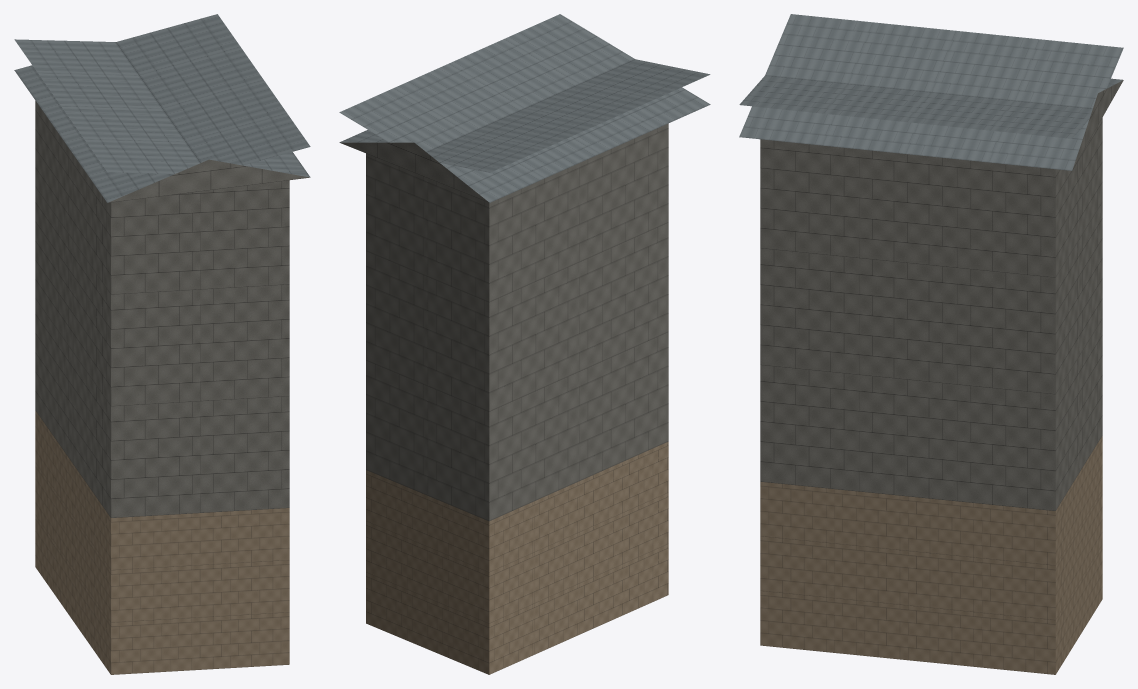
The model's file is bld_c-8_36_393.gltf.
The picture shows the model from 3 angles, left to right: view 1: azimuth 30°, elevation 25°; view 2: azimuth 150°, elevation 25°; view 3: azimuth 270°, elevation 25°; orthographic projection. The views are drawn at different scales.
Visible parts, largest first — view 1: bld_c-8_36_393; view 2: bld_c-8_36_393; view 3: bld_c-8_36_393.
Part boxes in pixels (x1,y1,x2,y2): bld_c-8_36_393: (14, 14, 310, 674); bld_c-8_36_393: (339, 14, 710, 674); bld_c-8_36_393: (739, 14, 1123, 674).
Size of the model in its own units: 8.33 by 17 by 10.86.
Materials: 4 (4 with a texture image).
